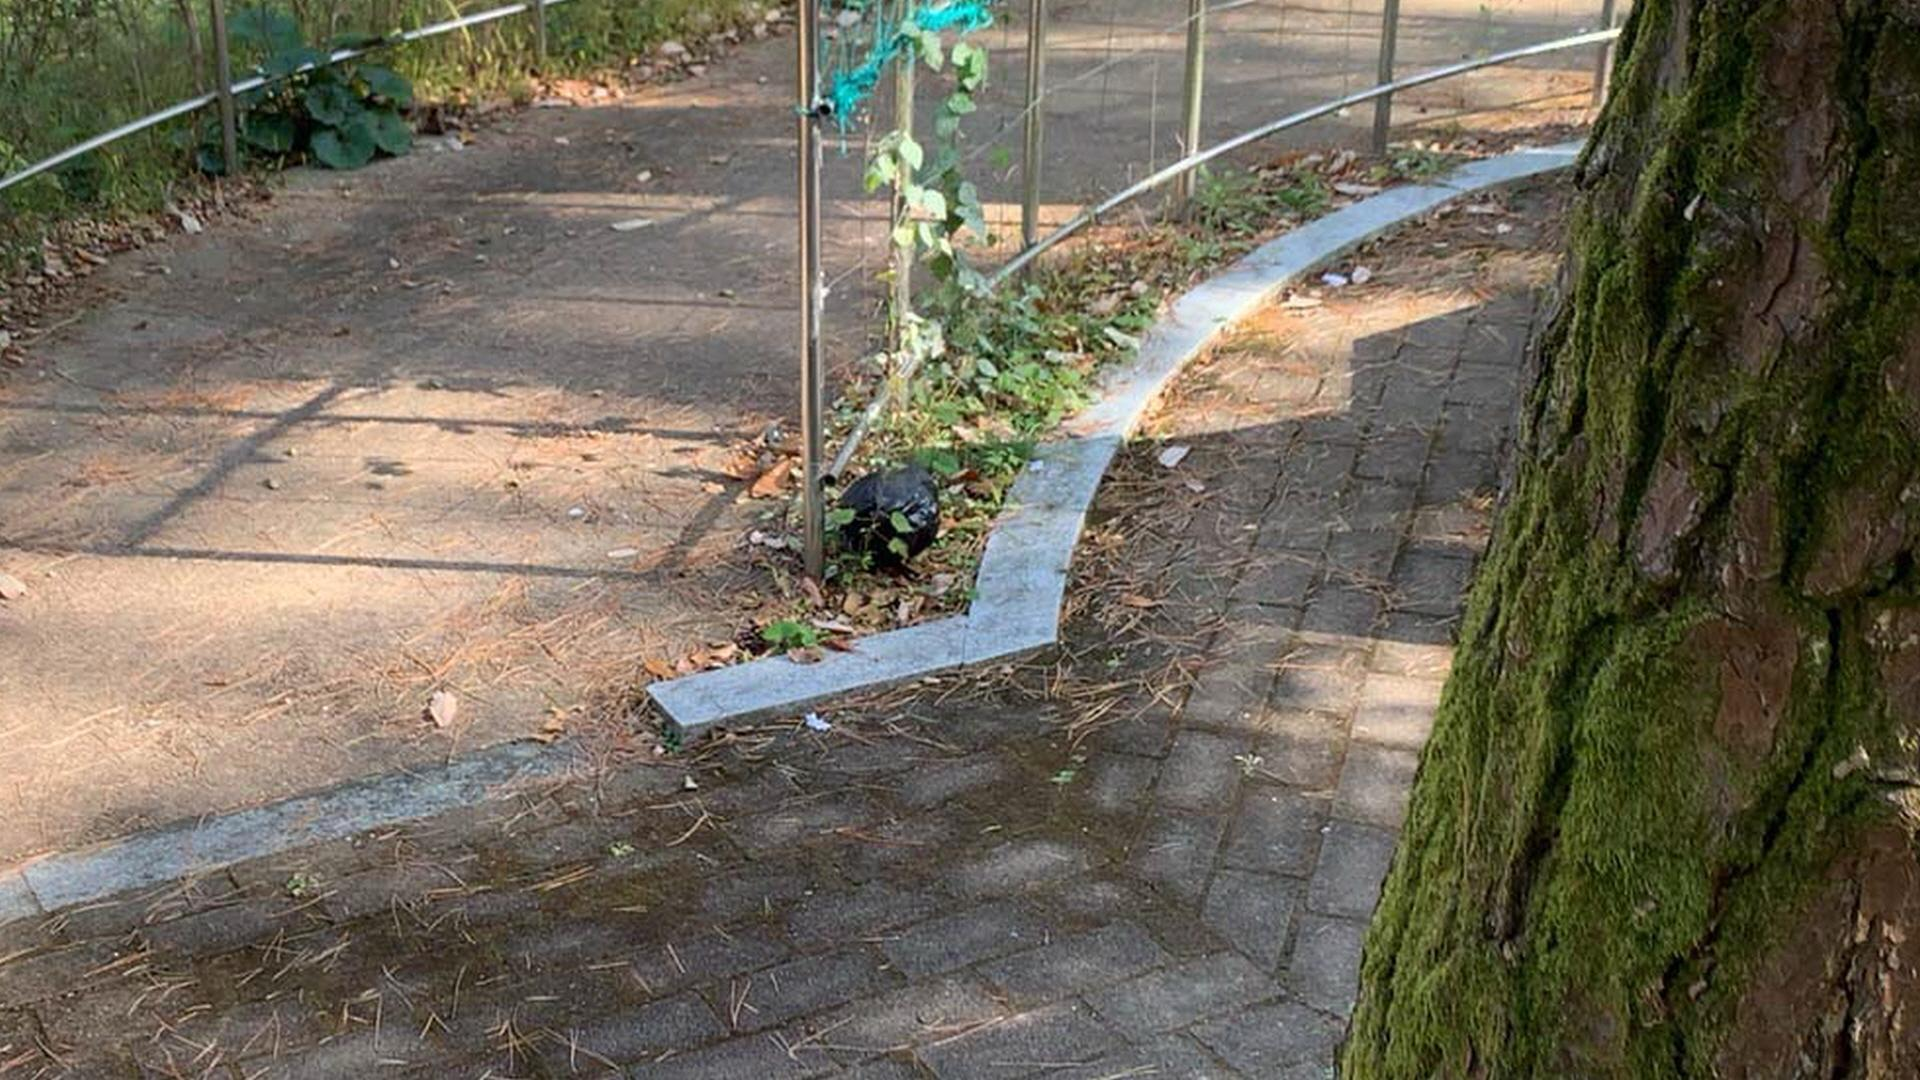black_bag: (832, 460, 952, 583)
